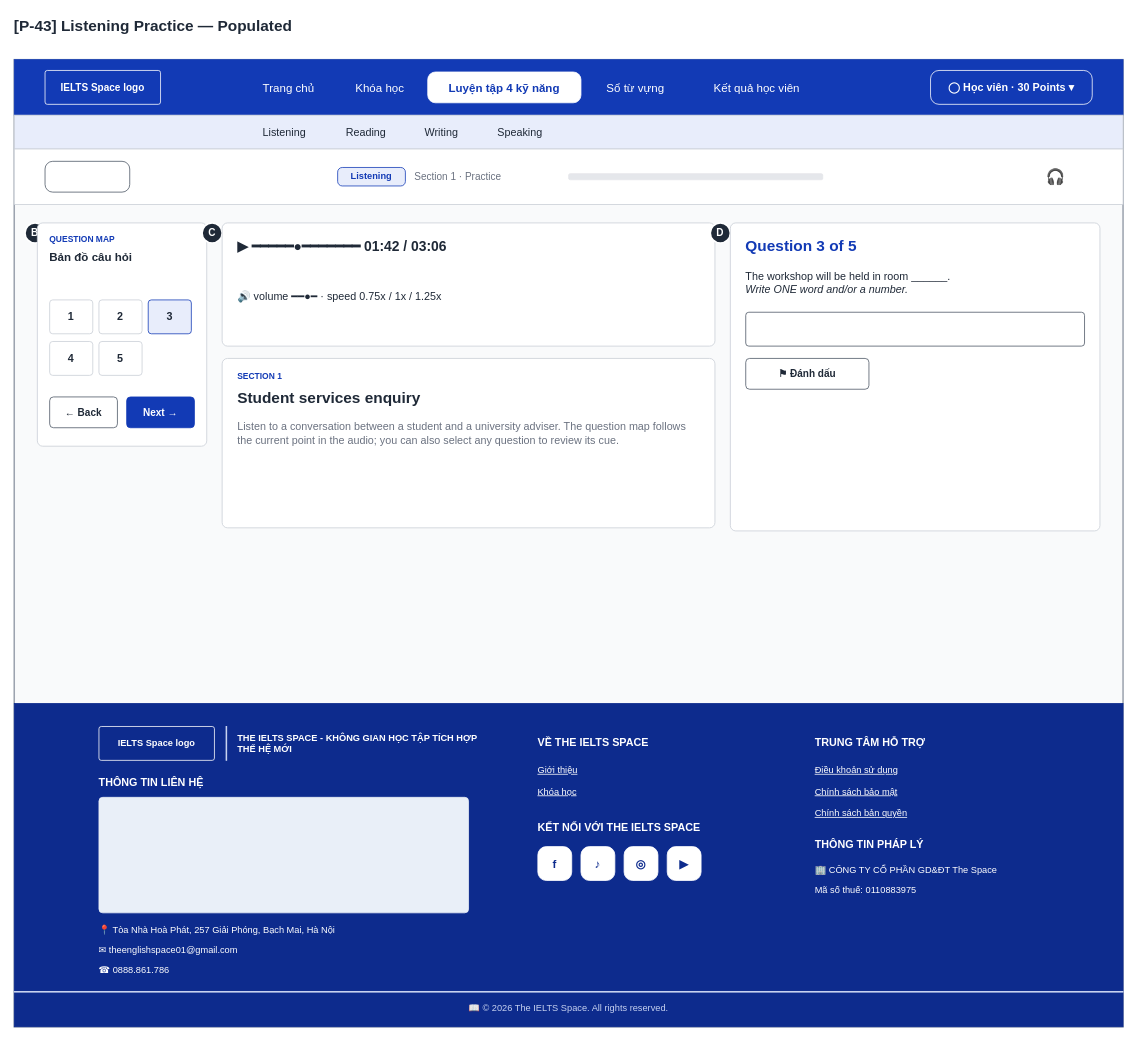
Some shapes in this 1137 by 1040 pixel diagram are drawn without their labels. Each missing label, with the centre of its shape:
"Nhập đáp án cho câu 3" belongs at point 915,328.
"← Thoát" belongs at point 87,176.
"📍 The IELTS Space Mở trong Maps ↗" belongs at point 283,855.
